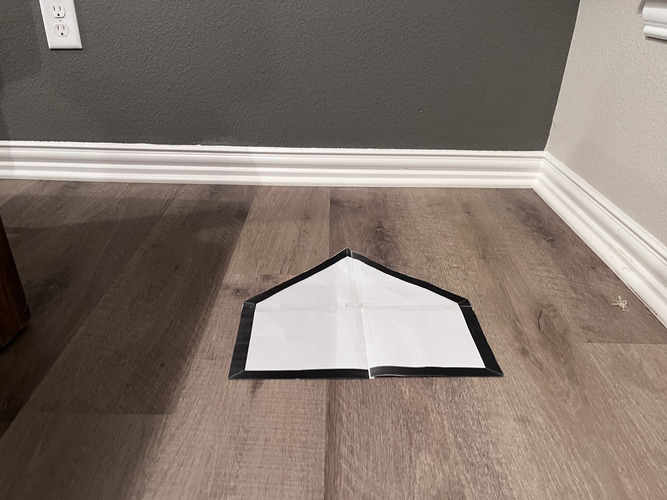homeplate: (228, 249, 503, 378)
